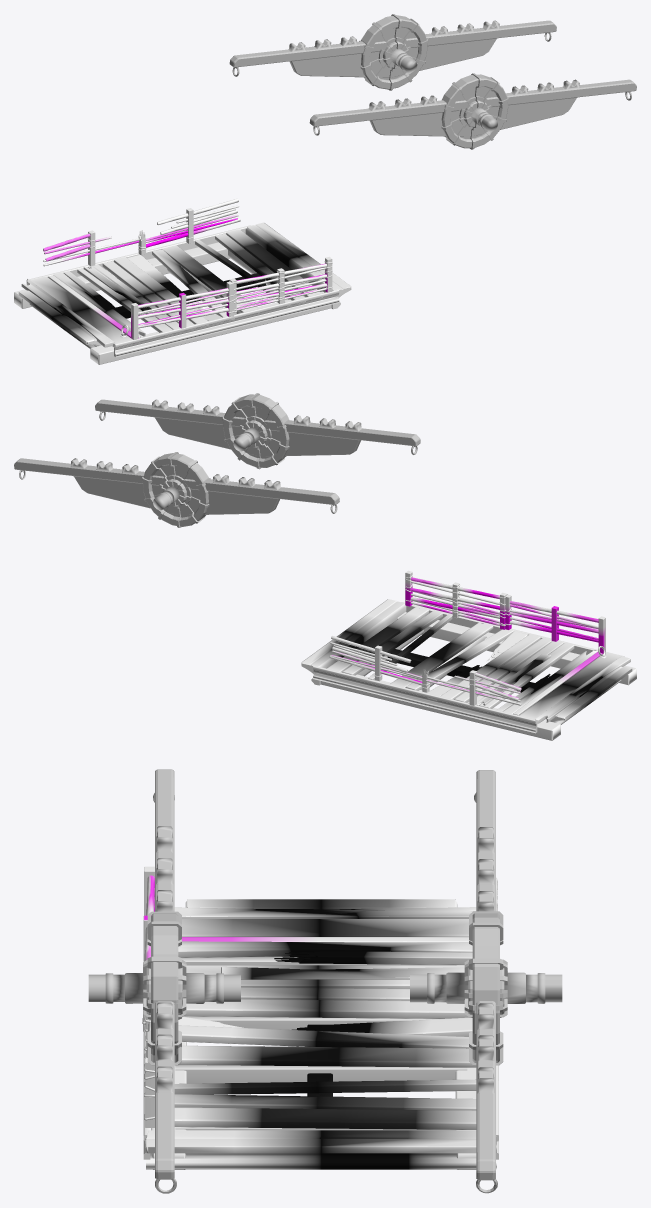
The model's file is Bridge.FBX.
The picture shows the model from 3 angles, top to bottom: view 1: azimuth 30°, elevation 25°; view 2: azimuth 150°, elevation 25°; view 3: azimuth 270°, elevation 25°; orthographic projection. The views are drawn at different scales.
Parts seen in each view (by area): view 1: Drawbridge_Lever2_LOD0, Drawbridge_Lever_LOD0, Drawbridge_LOD0, Wood177, Wood178, Wood180, Wood173, Wood194, Wood176, Wood179, Wood172, Wood169 (+6 smaller); view 2: Drawbridge_LOD0, Drawbridge_Lever_LOD0, Drawbridge_Lever2_LOD0, Wood177, Wood178, Wood180, Wood176, Wood173, Wood194, Wood179, Wood172, Wood170 (+5 smaller); view 3: Drawbridge_LOD0, Drawbridge_Lever_LOD0, Drawbridge_Lever2_LOD0, Wood180, Wood178, Wood177, Wood173, Wood176, Wood179, Wood169, Wood181, Wood194 (+7 smaller).
Part boxes in pixels (x1=…): Drawbridge_Lever2_LOD0: x1=309, y1=73, x2=636, y2=149; Drawbridge_Lever_LOD0: x1=229, y1=14, x2=556, y2=90; Drawbridge_LOD0: x1=14, y1=222, x2=351, y2=364; Wood177: x1=30, y1=276, x2=132, y2=347; Wood178: x1=161, y1=245, x2=259, y2=313; Wood180: x1=226, y1=229, x2=322, y2=300; Wood173: x1=114, y1=257, x2=208, y2=327; Wood194: x1=21, y1=279, x2=114, y2=347; Wood176: x1=152, y1=249, x2=234, y2=320; Wood179: x1=215, y1=234, x2=305, y2=303; Wood172: x1=102, y1=261, x2=195, y2=330; Wood169: x1=53, y1=272, x2=145, y2=337; Drawbridge_LOD0: x1=301, y1=599, x2=636, y2=740; Drawbridge_Lever_LOD0: x1=14, y1=452, x2=339, y2=527; Drawbridge_Lever2_LOD0: x1=95, y1=393, x2=420, y2=469; Wood177: x1=519, y1=652, x2=621, y2=719; Wood178: x1=390, y1=622, x2=493, y2=687; Wood180: x1=327, y1=606, x2=428, y2=672; Wood176: x1=405, y1=629, x2=513, y2=690; Wood173: x1=440, y1=634, x2=540, y2=699; Wood194: x1=535, y1=656, x2=630, y2=723; Wood179: x1=342, y1=610, x2=442, y2=675; Wood172: x1=454, y1=637, x2=552, y2=702; Wood170: x1=479, y1=642, x2=574, y2=708; Drawbridge_LOD0: x1=143, y1=899, x2=498, y2=1169; Drawbridge_Lever_LOD0: x1=410, y1=770, x2=562, y2=1193; Drawbridge_Lever2_LOD0: x1=88, y1=769, x2=240, y2=1193; Wood180: x1=174, y1=1107, x2=476, y2=1129; Wood178: x1=176, y1=1045, x2=476, y2=1067; Wood177: x1=182, y1=919, x2=468, y2=936; Wood173: x1=184, y1=999, x2=470, y2=1018; Wood176: x1=143, y1=1025, x2=468, y2=1048; Wood179: x1=174, y1=1094, x2=476, y2=1110; Wood169: x1=178, y1=941, x2=472, y2=957; Wood181: x1=174, y1=1079, x2=476, y2=1094; Wood194: x1=174, y1=907, x2=476, y2=918.
Size of what is drawn, in the model's own units: 1716 by 649 by 590.
